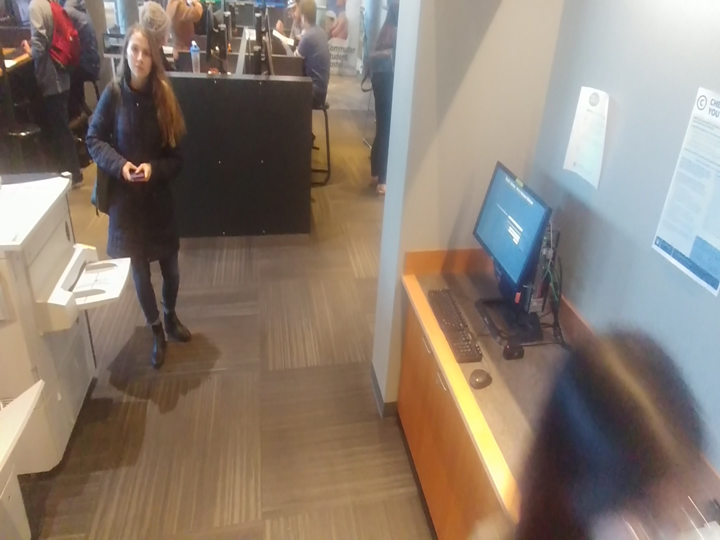face: (111, 15, 166, 92), (296, 0, 326, 36), (283, 0, 303, 32)
human: (83, 15, 202, 372), (14, 0, 89, 191), (358, 0, 401, 192), (288, 0, 336, 113)
